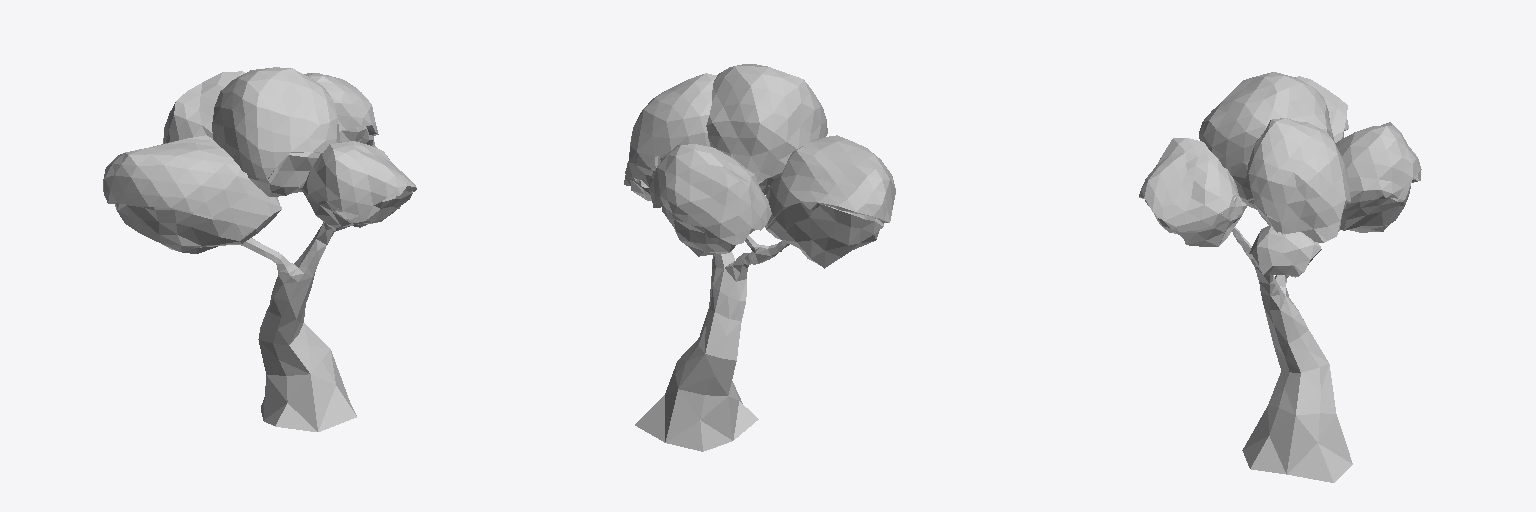
The model's file is common_tree_1_snow.obj.
The picture shows the model from 3 angles: view 1: azimuth 30°, elevation 25°; view 2: azimuth 150°, elevation 25°; view 3: azimuth 270°, elevation 25°; orthographic projection.
Parts seen in each view (by area): view 1: common_tree_1_snow_snow, common_tree_1_snow_trunk, common_tree_1_snow_leaves, common_tree_1_snow_leaves_dark; view 2: common_tree_1_snow_snow, common_tree_1_snow_trunk, common_tree_1_snow_leaves, common_tree_1_snow_leaves_dark; view 3: common_tree_1_snow_snow, common_tree_1_snow_trunk, common_tree_1_snow_leaves_dark, common_tree_1_snow_leaves.
Boxes of the visible parts, box(x1,y1,x2,y2) form: common_tree_1_snow_snow: box(103, 67, 416, 236); common_tree_1_snow_trunk: box(239, 222, 356, 431); common_tree_1_snow_leaves: box(115, 188, 412, 253); common_tree_1_snow_leaves_dark: box(247, 126, 373, 196); common_tree_1_snow_snow: box(624, 64, 895, 244); common_tree_1_snow_trunk: box(635, 235, 789, 451); common_tree_1_snow_leaves: box(630, 180, 883, 268); common_tree_1_snow_leaves_dark: box(631, 153, 775, 256); common_tree_1_snow_snow: box(1139, 72, 1421, 275); common_tree_1_snow_trunk: box(1232, 227, 1352, 482); common_tree_1_snow_leaves_dark: box(1227, 162, 1410, 242); common_tree_1_snow_leaves: box(1145, 132, 1343, 277).
Bounding box in the file's own units: 4.94 × 6.37 × 4.48.